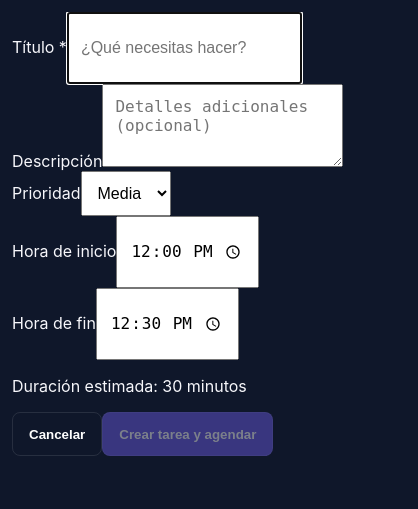
Test case: planificación de tareas › rechaza una hora de fin igual a la de inicio
Replace the text in the time field labelled "Hora de fin" with "12:00" at point(167, 324), box 96,288 -> 239,360
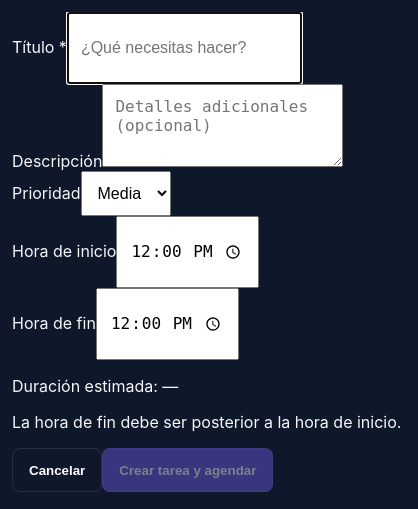
expect the button "Crear tarea y agendar" is disabled: met, box 102,448 -> 273,492
expect the message reads "La hora de fin debe ser posterior a la hora de inicio.": met, box 12,412 -> 401,432
